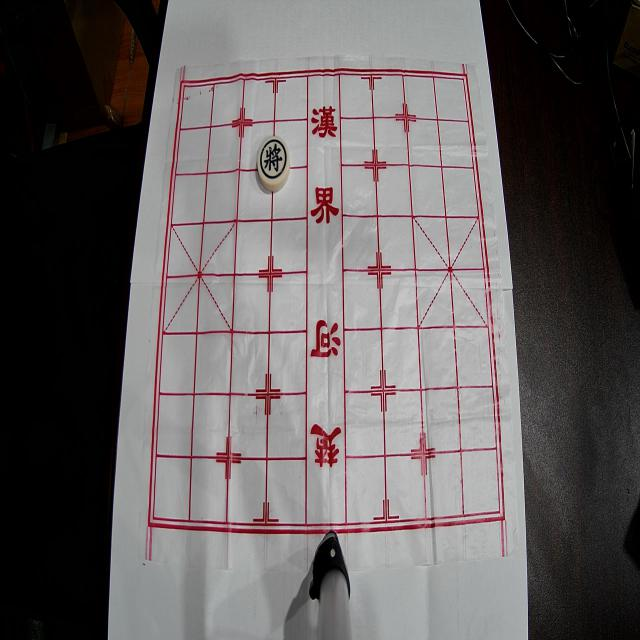black-general: (258, 137, 290, 191)
